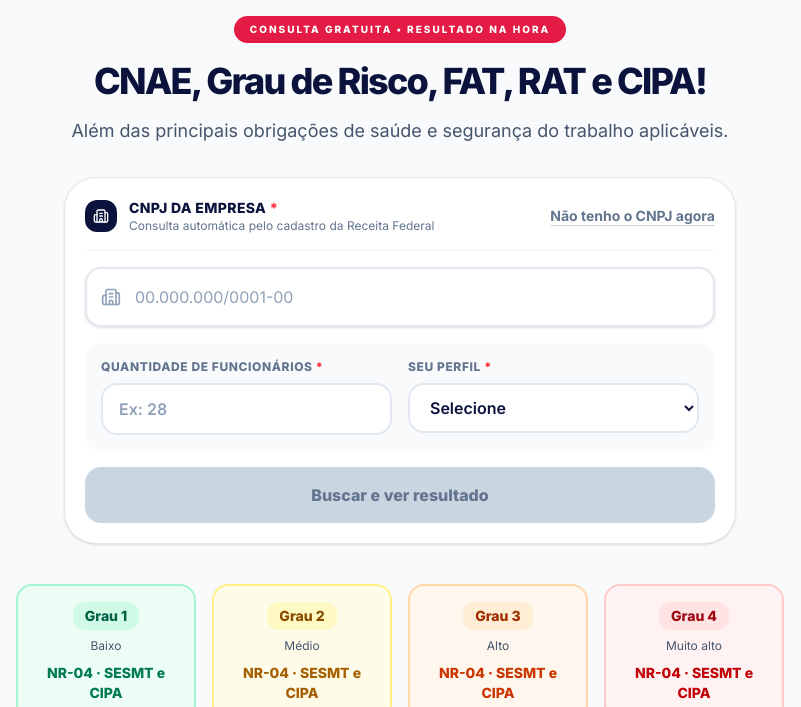
Scenario: CnaeCalculator › avisa quando nao consegue consultar o CNPJ
The image size is (801, 707).
In the field with placeholder "00.000.000/0001-00": (400, 297) [85, 267, 715, 327], type "12345678000195"
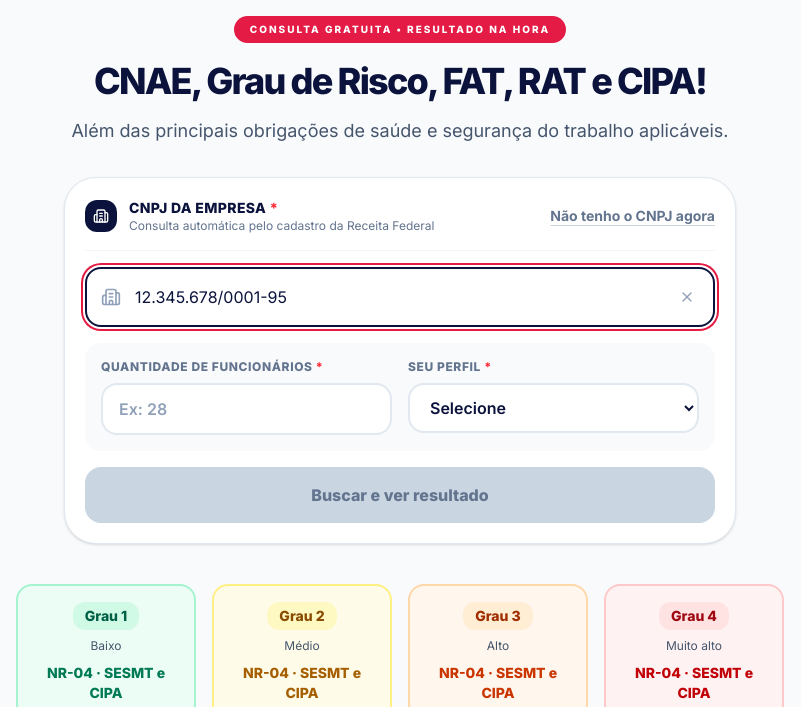
In the number field with placeholder "Ex: 28": (246, 409) [101, 383, 392, 435], type "10"
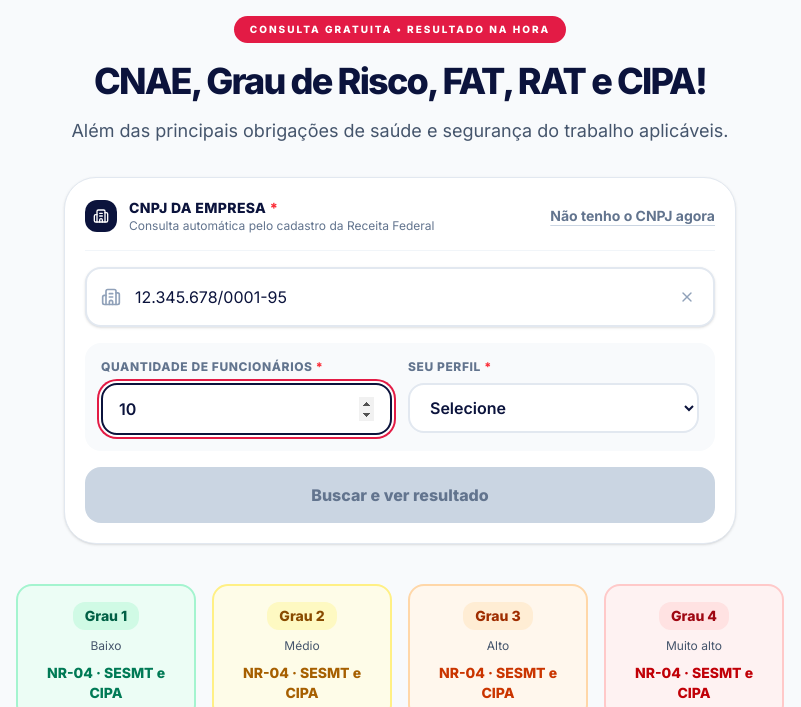
Select "Gestor(a) / Gerente" in the dropdown labelled "Seu perfil *": (554, 408) [408, 383, 699, 433]
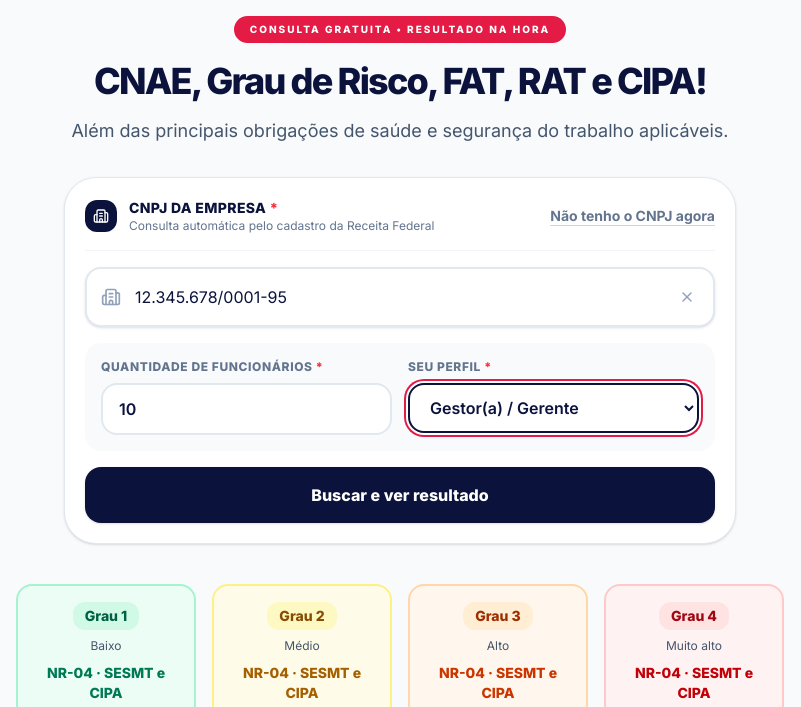
Click the button "Buscar e ver resultado": (400, 495) [85, 467, 715, 523]
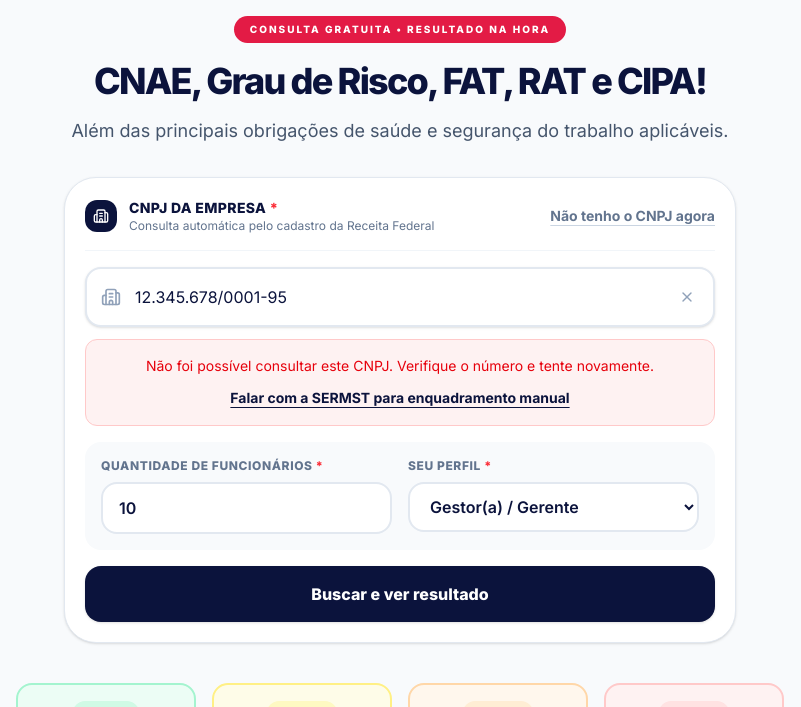
Expected: the text "Não foi possível consultar este CNPJ" is shown, [146, 357, 654, 374]
